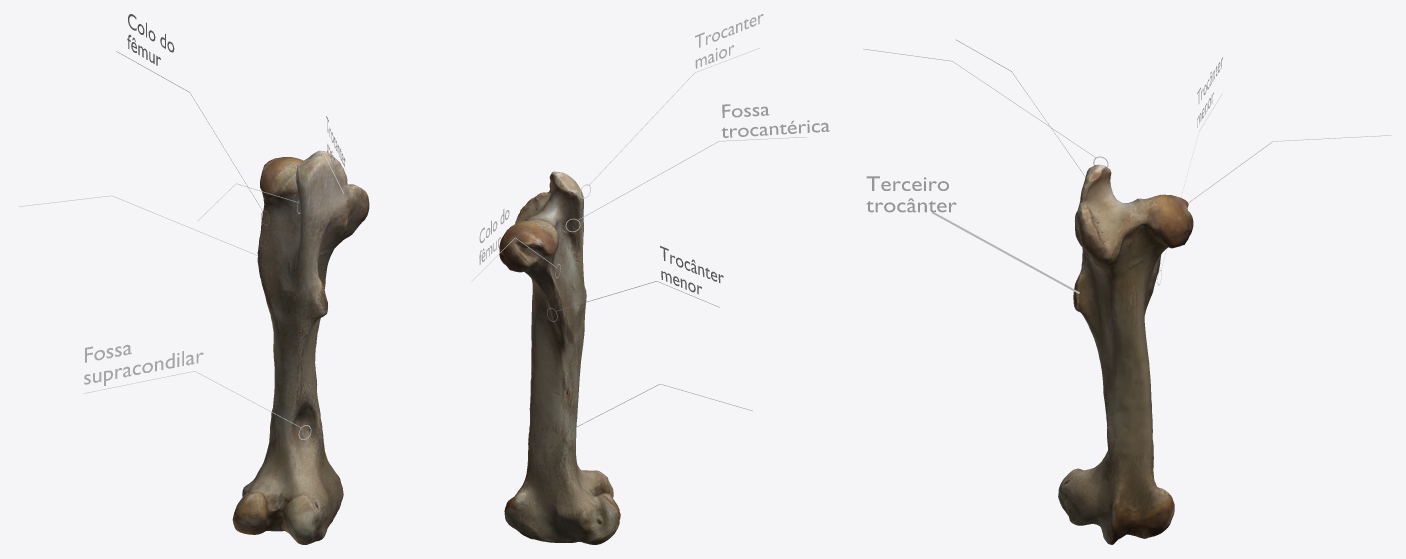
The model's file is Femur-editado_modelo-teste.2.glb.
The picture shows the model from 3 angles, left to right: view 1: azimuth 30°, elevation 25°; view 2: azimuth 150°, elevation 25°; view 3: azimuth 270°, elevation 25°; orthographic projection. The views are drawn at different scales.
Visible parts, largest first — view 1: Mesh_0, Texto.002; view 2: Mesh_0, Texto.005, Texto.003, Texto.006; view 3: Mesh_0, Texto.001.
Boxes of the visible parts, <box> form: Mesh_0: <box>232,150,369,544</box>; Texto.002: <box>84,344,203,385</box>; Mesh_0: <box>499,171,620,544</box>; Texto.005: <box>721,104,829,137</box>; Texto.003: <box>660,246,723,294</box>; Texto.006: <box>695,14,763,68</box>; Mesh_0: <box>1058,164,1193,544</box>; Texto.001: <box>866,176,956,212</box>.
Size of the model in its own units: 1.5 by 2.47 by 2.46.
6 materials, 1 textured.
